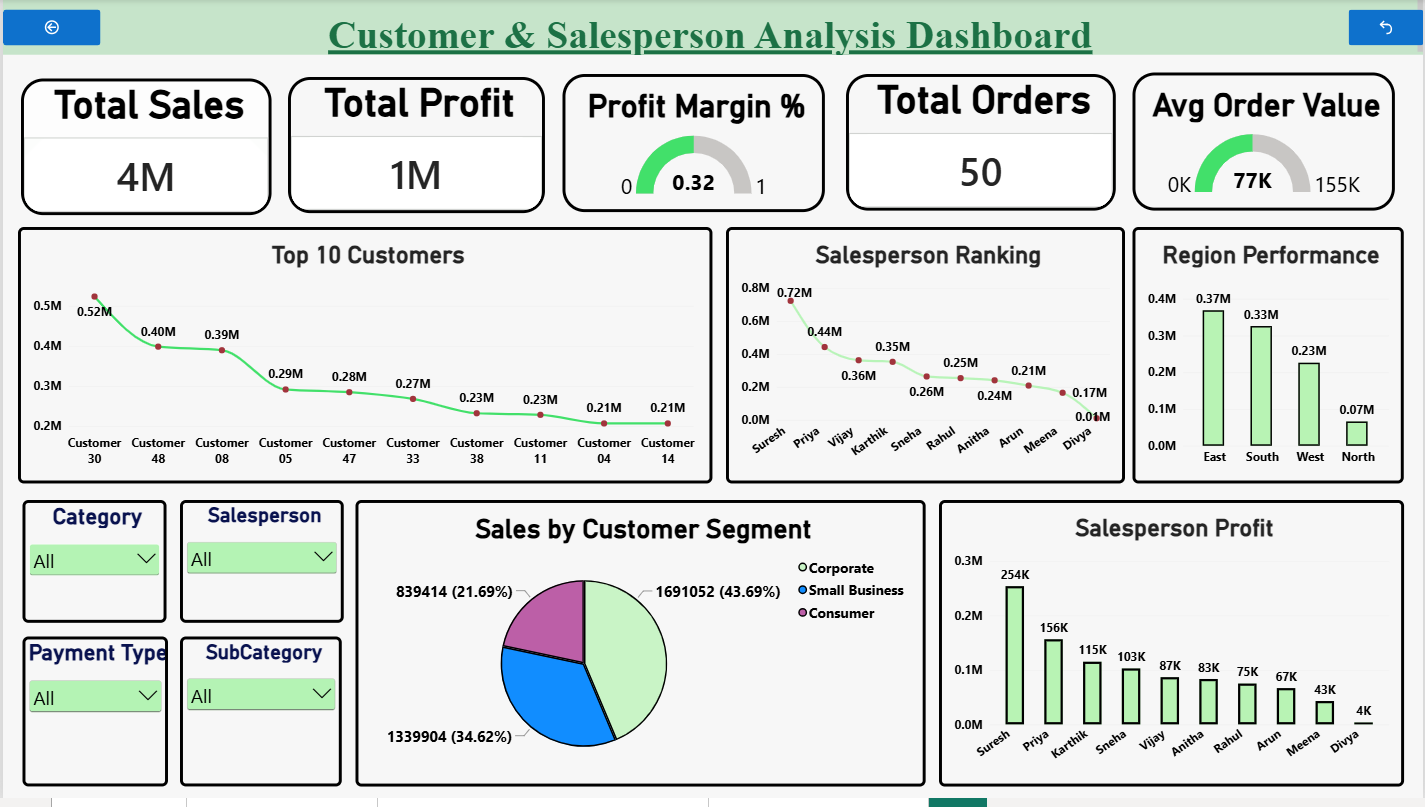

This screenshot's page, from the dashboard's own definition file:
{"tool":"powerbi","page":{"name":"Customer & Salesperson Analysis","canvas":[1920,1080],"ordinal":2},"visuals":[{"type":"textbox","box":[0,0,1920.1,75],"z":0},{"type":"lineChart","title":"Top 10 Customers","fields":{"Category":["DimCustomer.CustomerName"],"Y":["FactSales.Total Sales"]},"box":[20.3,308.2,938.8,346.7],"z":1000},{"type":"lineChart","title":"Salesperson Ranking","fields":{"Category":["DimSalesperson.SalespersonName"],"Y":["FactSales.Total Sales"]},"box":[977.3,308.2,539.3,346.7],"z":2000},{"type":"pieChart","title":"Sales by Customer Segment","fields":{"Category":["DimCustomer.CustomerSegment"],"Y":["FactSales.Total Sales"]},"box":[476.5,677.2,770.5,387.3],"z":3000},{"type":"clusteredColumnChart","title":"Salesperson Profit","fields":{"Category":["DimSalesperson.SalespersonName"],"Y":["FactSales.Total Profit"]},"box":[1265.2,677.2,628.5,387.3],"z":4000},{"type":"columnChart","title":"Region Performance","fields":{"Category":["DimCustomer.Region"],"Y":["FactSales.Total Profit"]},"box":[1526.8,308.2,367,346.7],"z":5000},{"type":"gauge","title":"Avg Order Value","fields":{"Y":["FactSales.Average Order Value"]},"box":[1526.8,99.4,354.8,186.5],"z":6000},{"type":"cardVisual","title":"  Total Sales","fields":{"Data":["FactSales.Total Sales"]},"box":[25,106.8,338.6,184.5],"z":7000},{"type":"cardVisual","title":"  Total Profit","fields":{"Data":["FactSales.Total Profit"]},"box":[386.1,104.5,347.5,184],"z":8000},{"type":"cardVisual","title":"  Total Orders","fields":{"Data":["FactSales.Total Orders"]},"box":[1139.5,101.4,365,184.5],"z":9000},{"type":"actionButton","box":[1818.7,14.2,101.4,48.7],"z":14000},{"type":"actionButton","box":[0,14.2,131.8,48.7],"z":15000},{"type":"slicer","title":"Payment Type","fields":{"Values":["FactSales.PaymentMethod"]},"box":[26.4,861.7,196.7,202.8],"z":16000},{"type":"slicer","title":"Salesperson","fields":{"Values":["DimSalesperson.SalespersonName"]},"box":[239.3,677.2,221,166.3],"z":17000},{"type":"slicer","title":"SubCategory","fields":{"Values":["DimProduct.SubCategory"]},"box":[239.3,861.7,219,202.8],"z":18000},{"type":"slicer","title":"Category","fields":{"Values":["DimProduct.Category"]},"box":[26.4,677.2,194.6,166.3],"z":19000},{"type":"gauge","title":"Profit Margin %","fields":{"Y":["FactSales.Profit Margin %"]},"box":[756.3,101.4,354.8,186.5],"z":20000}]}

Visuals, with their boxes in screenshot pixels (x1, y1, x2, y2), scaled from the page's 1920x1080 canvas onto the 1425x807 screenshot:
textbox: Rect(0, 0, 1424, 56)
"Top 10 Customers" lineChart: Rect(15, 230, 712, 489)
"Salesperson Ranking" lineChart: Rect(725, 230, 1126, 489)
"Sales by Customer Segment" pieChart: Rect(354, 506, 926, 795)
"Salesperson Profit" clusteredColumnChart: Rect(939, 506, 1405, 795)
"Region Performance" columnChart: Rect(1133, 230, 1406, 489)
"Avg Order Value" gauge: Rect(1133, 74, 1396, 214)
"  Total Sales" cardVisual: Rect(19, 80, 270, 218)
"  Total Profit" cardVisual: Rect(287, 78, 544, 216)
"  Total Orders" cardVisual: Rect(846, 76, 1117, 214)
actionButton: Rect(1350, 11, 1424, 47)
actionButton: Rect(0, 11, 98, 47)
"Payment Type" slicer: Rect(20, 644, 166, 795)
"Salesperson" slicer: Rect(178, 506, 342, 630)
"SubCategory" slicer: Rect(178, 644, 340, 795)
"Category" slicer: Rect(20, 506, 164, 630)
"Profit Margin %" gauge: Rect(561, 76, 825, 215)
